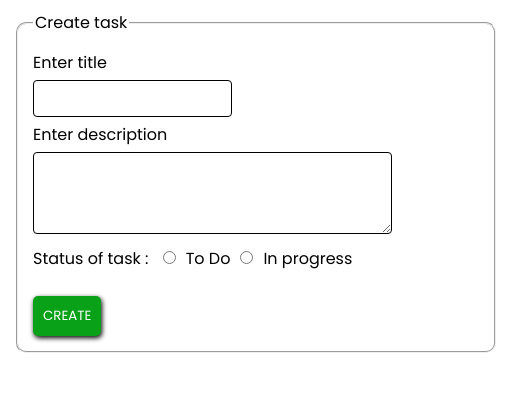
Test: CreateTaskForm › renders error messages for empty fields
Expected: the text "Title cannot be empty" is not shown
Expected: the text "Description cannot be empty" is not shown
Click the button "CREATE" at (67, 316), box [33,296,101,336]
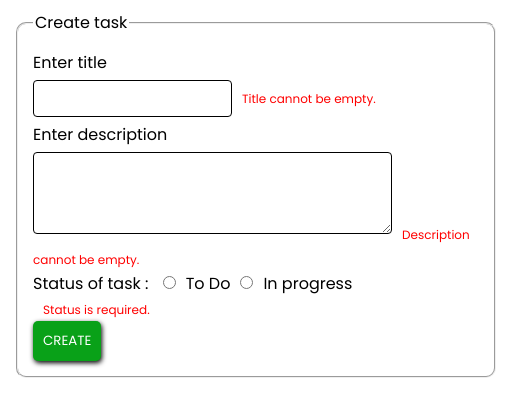
Result: the text "Title cannot be empty." is shown at [242,90,376,107]
Result: the text "Description cannot be empty." is shown at [33,226,470,268]
Result: the text "Status is required." is shown at [43,301,150,318]
